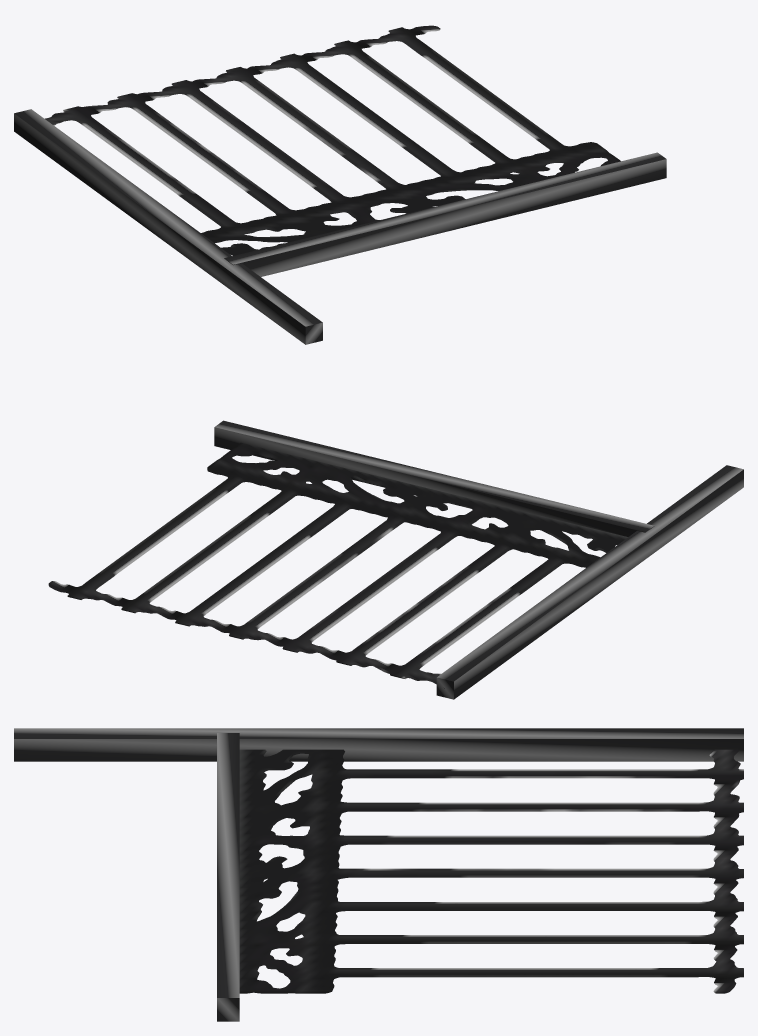
The model's file is pz_fence_png_fencing_01_1.obj.
3 renders of one model, top to bottom at view 1: azimuth 30°, elevation 25°; view 2: azimuth 150°, elevation 25°; view 3: azimuth 270°, elevation 25°, orthographic. The views are drawn at different scales.
Size of the model in its own units: 1.02 by 0.042 by 1.16.
Materials: 1 (1 with a texture image).
